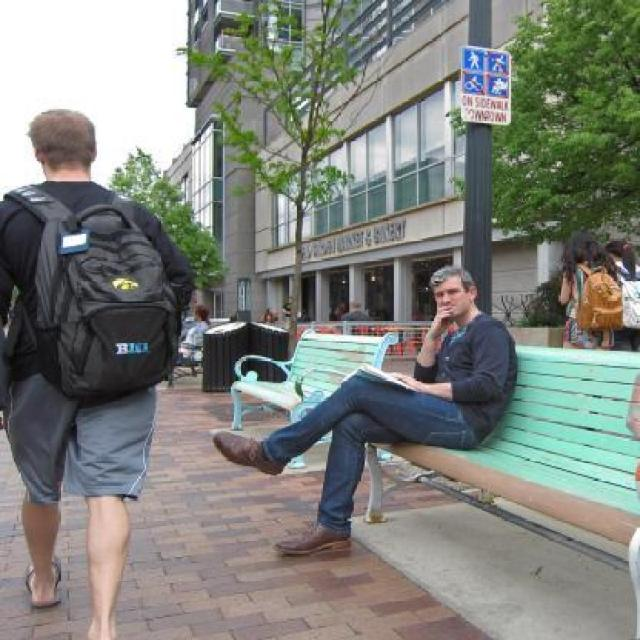backpack: (26, 200, 182, 402)
